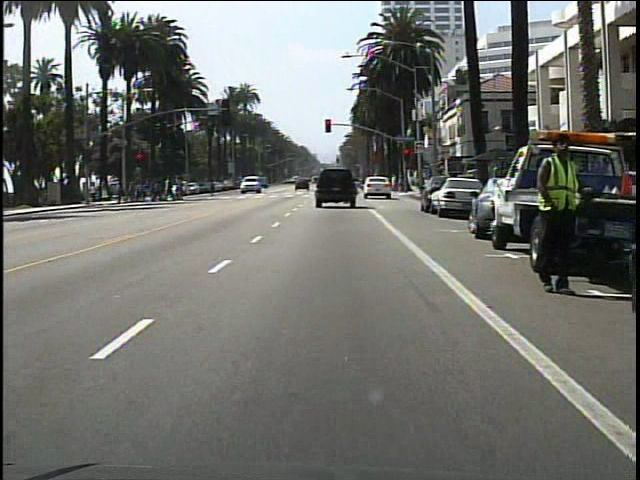person: (524, 128, 583, 295), (204, 172, 223, 201)
